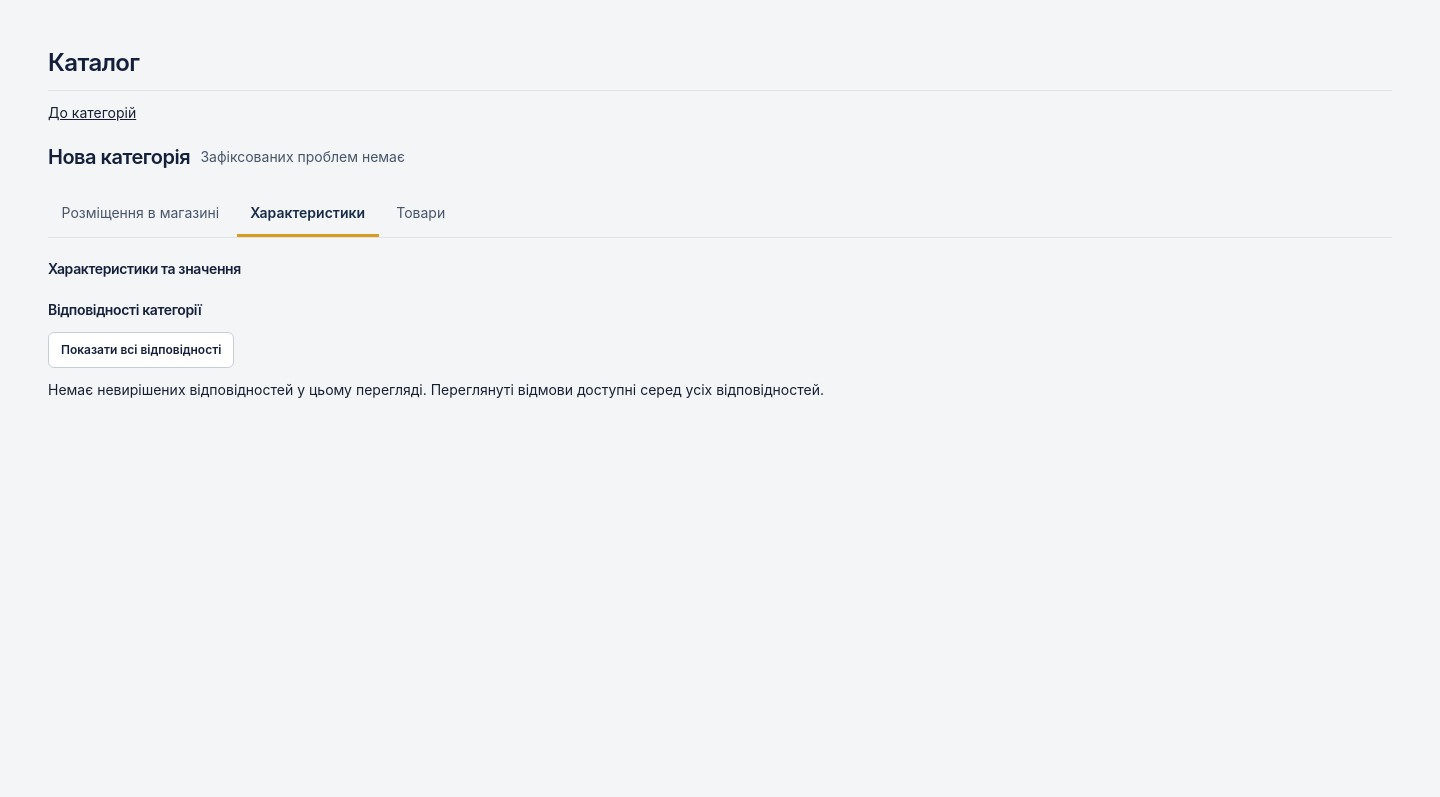
it: searches the entire mapping scope by Не оброблений камінь without mounting unrelated rows
Expected: the text "Немає невирішених" is shown, [48,381,824,398]
Step 1. Click the button "Показати всі відповідності" → (141, 350), box [48,332,234,368]
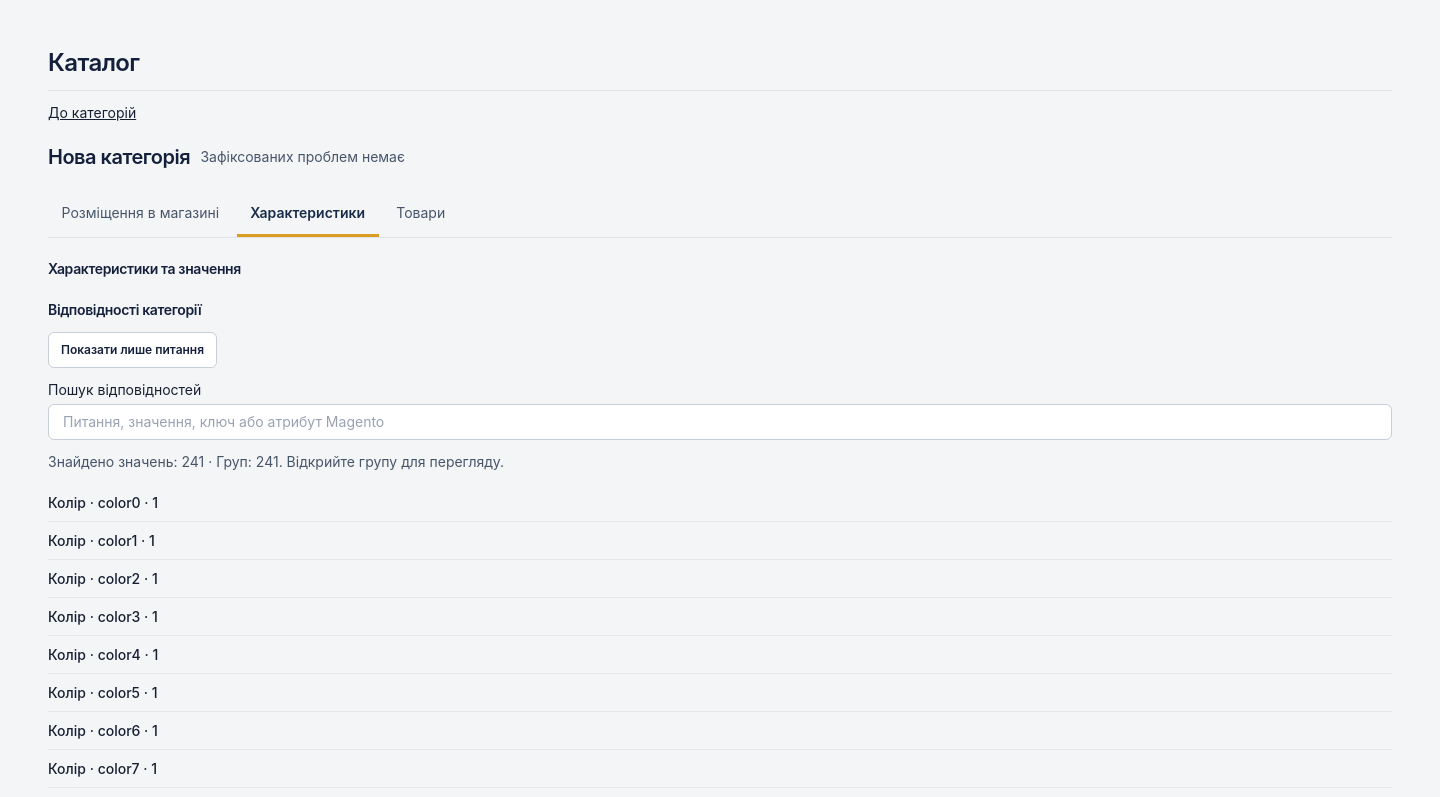
Step 2. Type "Не оброблений камінь" into the search field labelled "Пошук відповідностей" → (720, 422), box [48,404,1392,440]
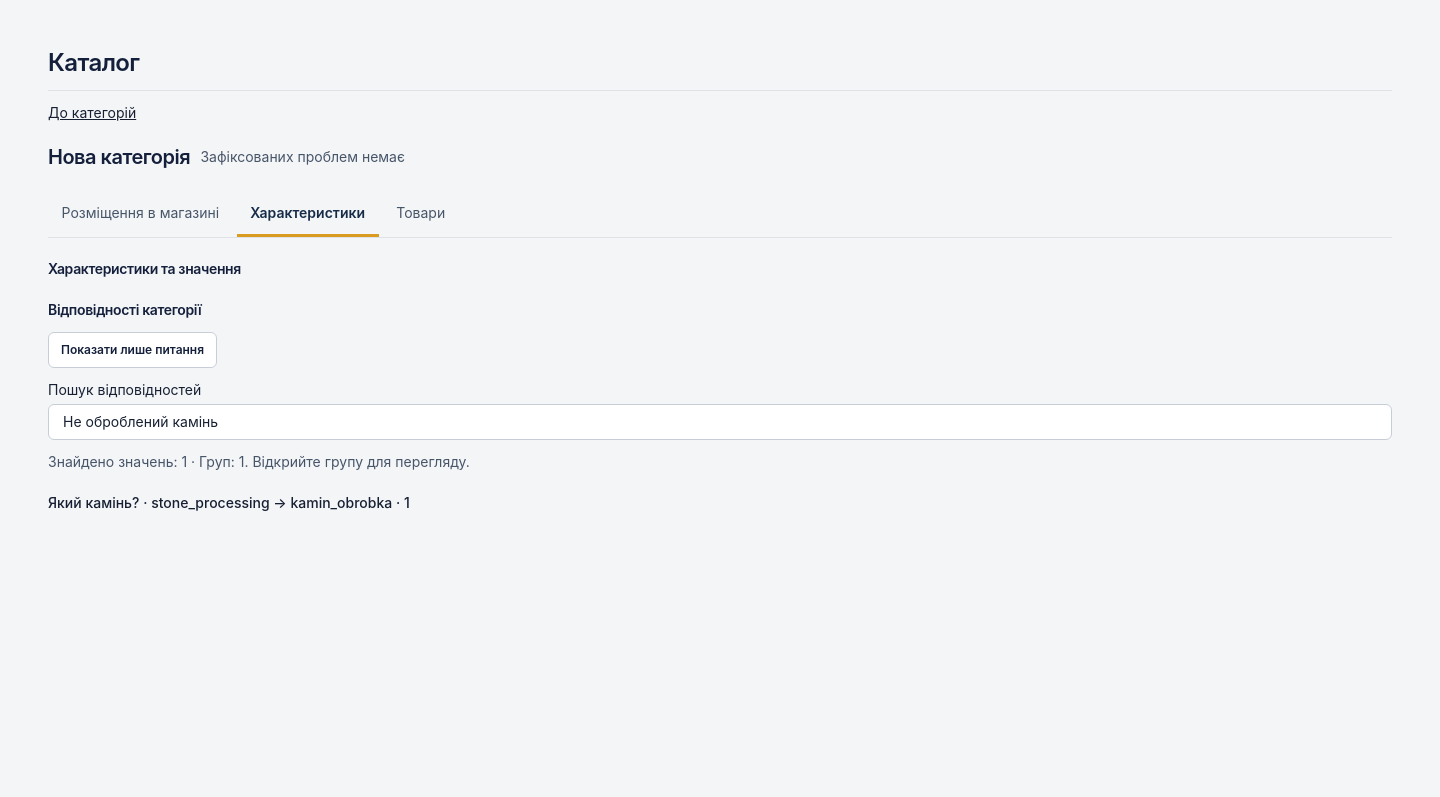
Step 3. Click the button "Який камінь? · stone_processing → kamin_obrobka · 1" → (229, 503), box [48,492,410,513]
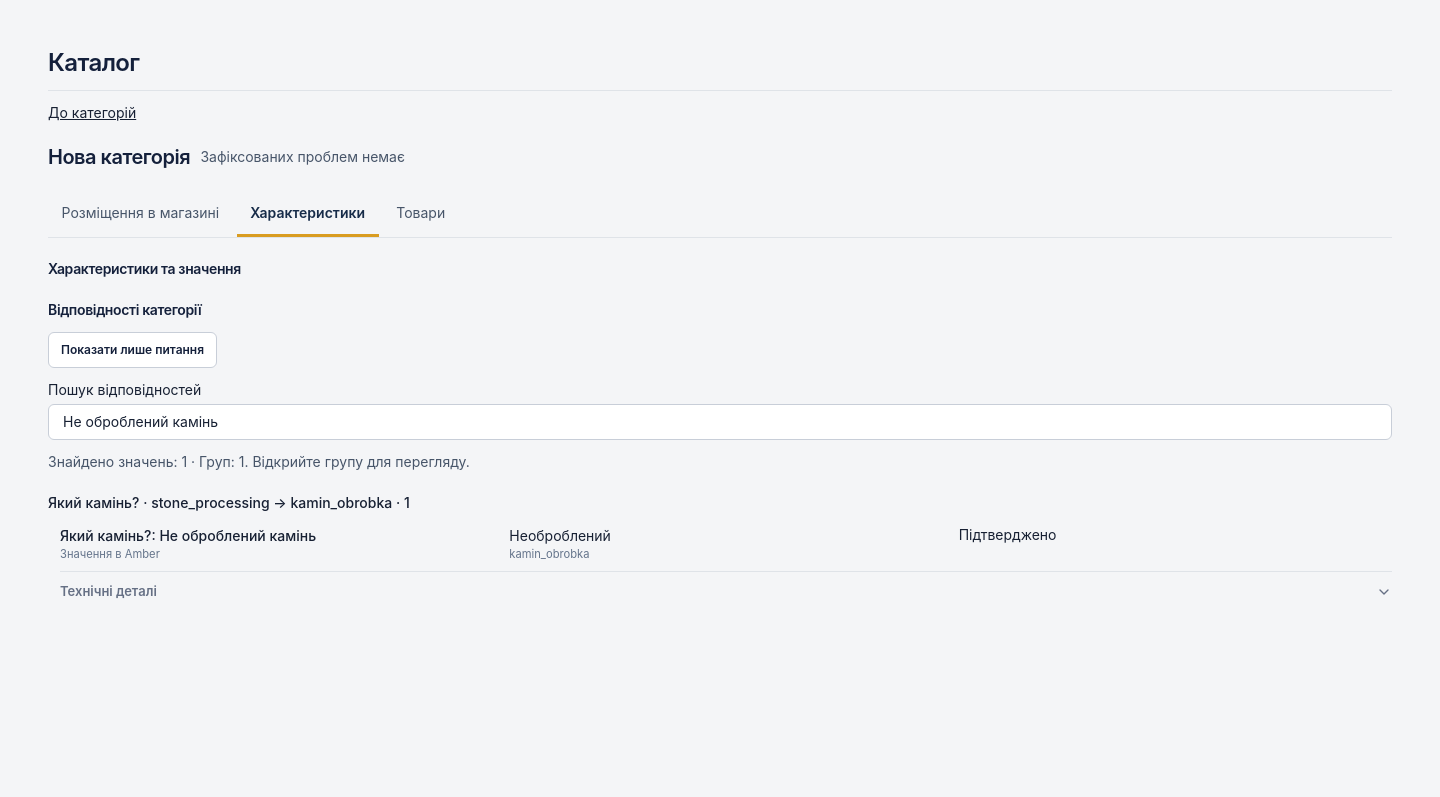
Expected: the text "value_id:" is not shown
Result: the text "Який камінь?: Не оброблений камінь" is shown at [60,527,316,544]
Step 4. Click the heading "Технічні деталі" → (108, 591), box [60,583,1392,600]
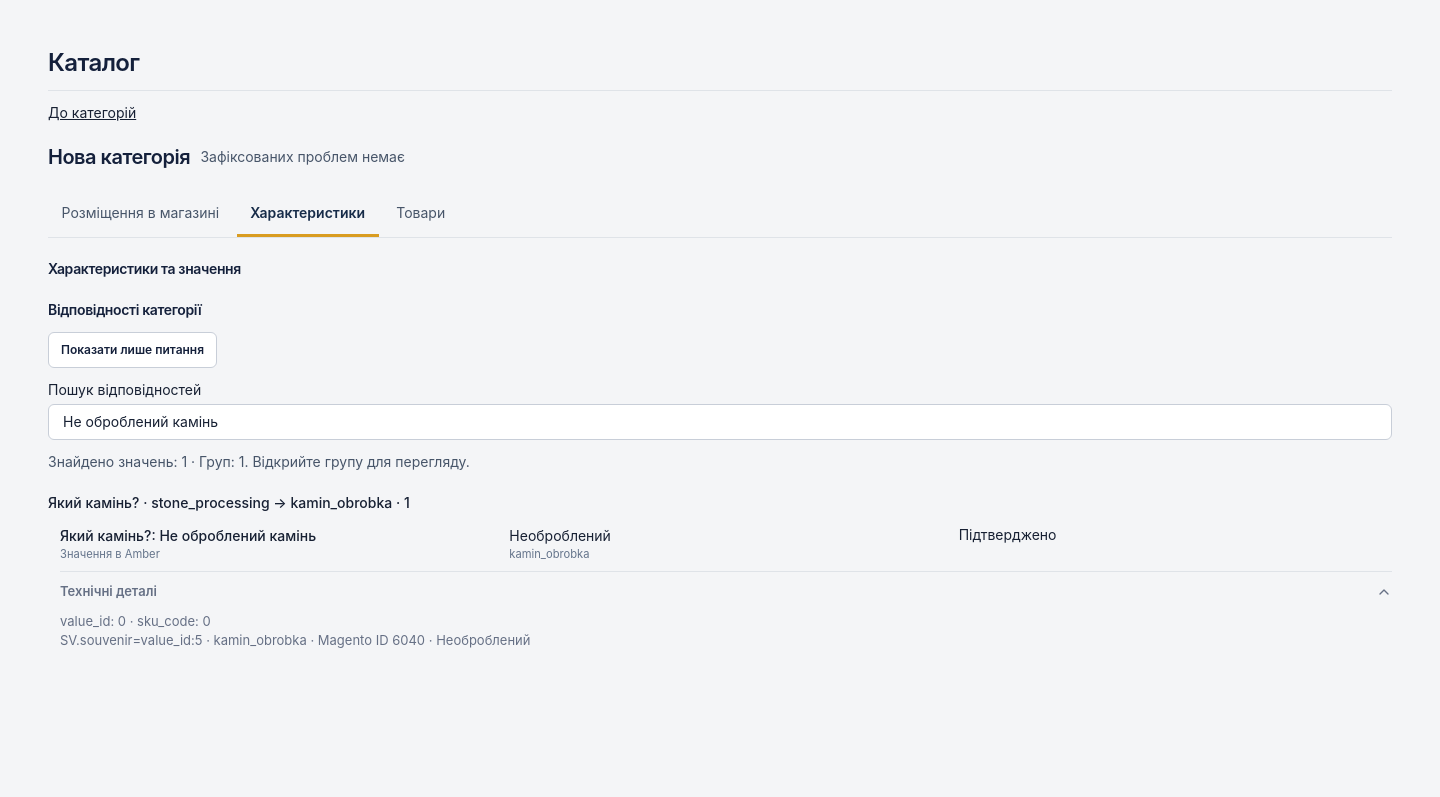
Result: the text "Magento ID 6040" is shown at [60,632,530,648]
